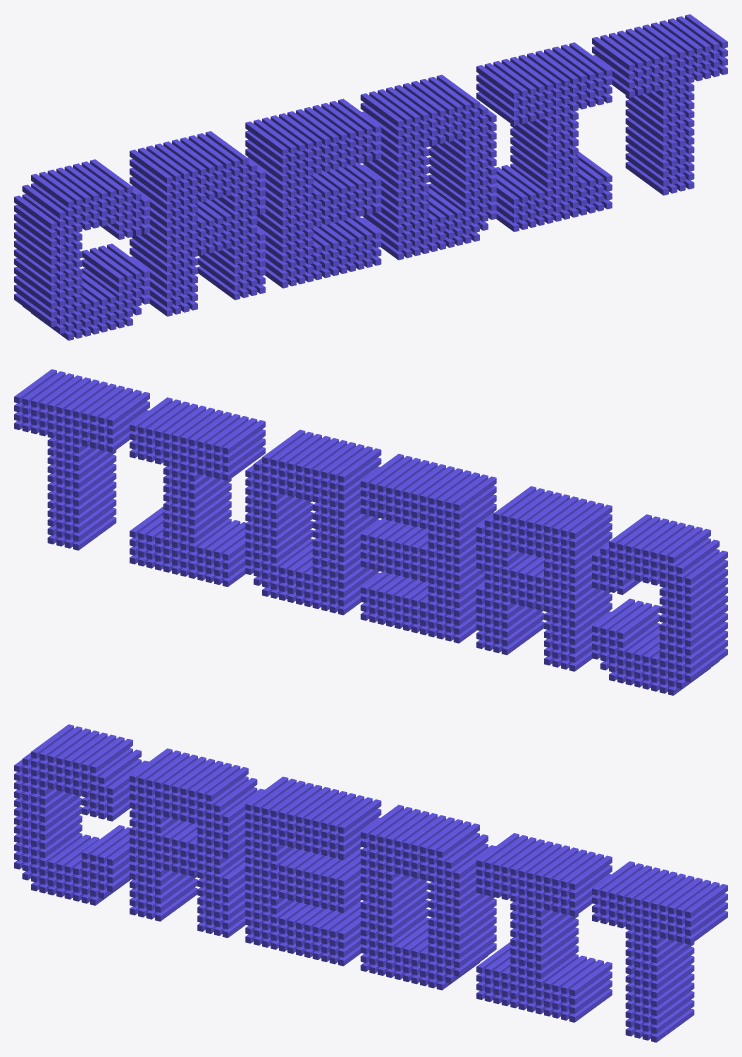
File: CREDIT.fbx
3 views of the same model, one above another, from view 1: azimuth 30°, elevation 25°; view 2: azimuth 150°, elevation 25°; view 3: azimuth 330°, elevation 25° (orthographic).
Parts seen in each view (by area): view 1: E, D, R, C, I, T; view 2: E, D, R, C, I, T; view 3: D, E, R, I, C, T.
Part boxes in pixels (x1,y1,x2,y2): E: [245, 98, 381, 288]; D: [360, 74, 496, 260]; R: [129, 131, 265, 316]; C: [14, 159, 149, 340]; I: [476, 42, 612, 231]; T: [592, 14, 727, 195]; E: [360, 453, 496, 643]; D: [245, 429, 381, 615]; R: [476, 486, 612, 671]; C: [592, 514, 727, 695]; I: [129, 397, 265, 586]; T: [14, 369, 149, 550]; D: [360, 804, 496, 990]; E: [245, 776, 381, 966]; R: [129, 748, 264, 937]; I: [476, 833, 612, 1022]; C: [14, 724, 148, 905]; T: [592, 861, 727, 1042].
Size of the model in its own units: 938 by 184 by 90.
